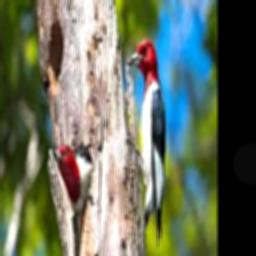Woodpecker: (126, 40, 166, 246), (53, 139, 93, 254)
